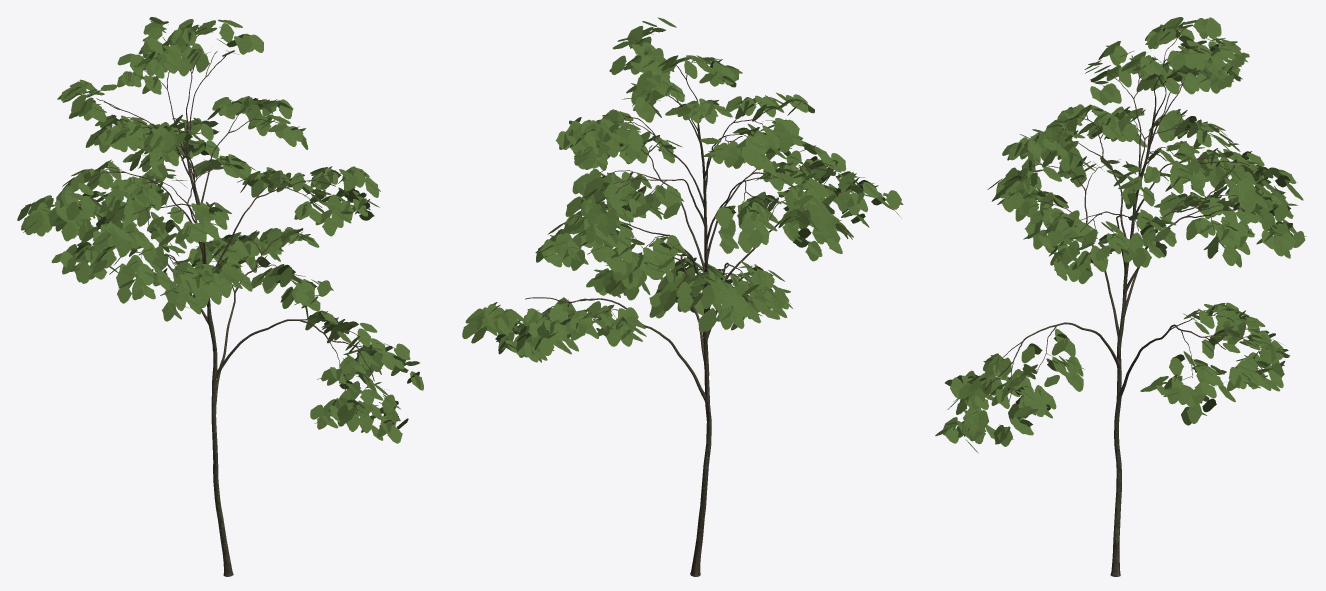
The model's file is bush_01_lod1.glb.
3 views of the same model, side by side, from view 1: azimuth 30°, elevation 25°; view 2: azimuth 150°, elevation 25°; view 3: azimuth 270°, elevation 25° (orthographic). The views are drawn at different scales.
Visible parts, largest first — view 1: AE_15TH_FOREST_BUSH_01_LOD1; view 2: AE_15TH_FOREST_BUSH_01_LOD1; view 3: AE_15TH_FOREST_BUSH_01_LOD1.
Part boxes in pixels (x1=…): AE_15TH_FOREST_BUSH_01_LOD1: x1=17, y1=17, x2=423, y2=576; AE_15TH_FOREST_BUSH_01_LOD1: x1=462, y1=17, x2=903, y2=576; AE_15TH_FOREST_BUSH_01_LOD1: x1=935, y1=17, x2=1306, y2=576.
Size of the model in its own units: 1.59 by 2.6 by 1.64.
2 materials, 2 textured.
